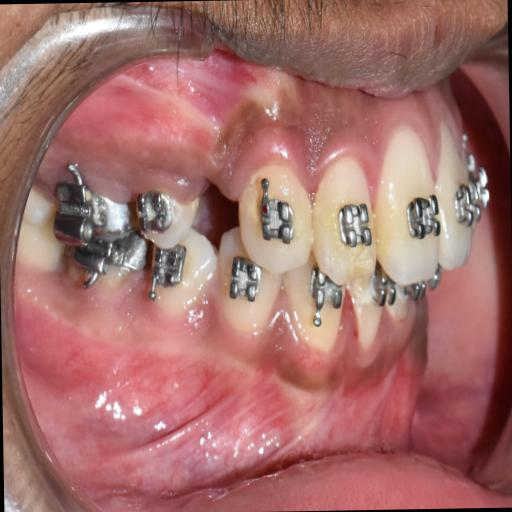correct_brace: (132, 160, 206, 248), (332, 192, 381, 264), (251, 182, 300, 254), (406, 188, 440, 240)
incorrect_brace: (310, 152, 378, 288), (127, 181, 177, 238)
